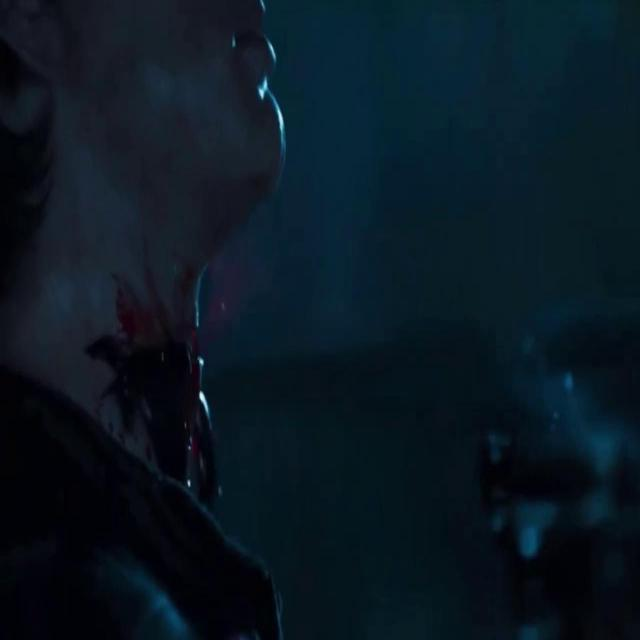flood: (79, 266, 263, 506)
